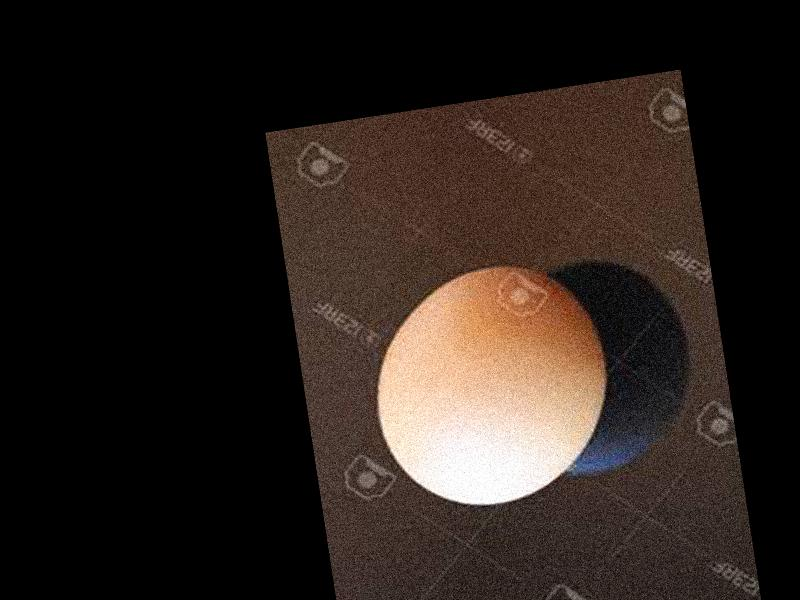Eggs: (359, 253, 625, 520)
